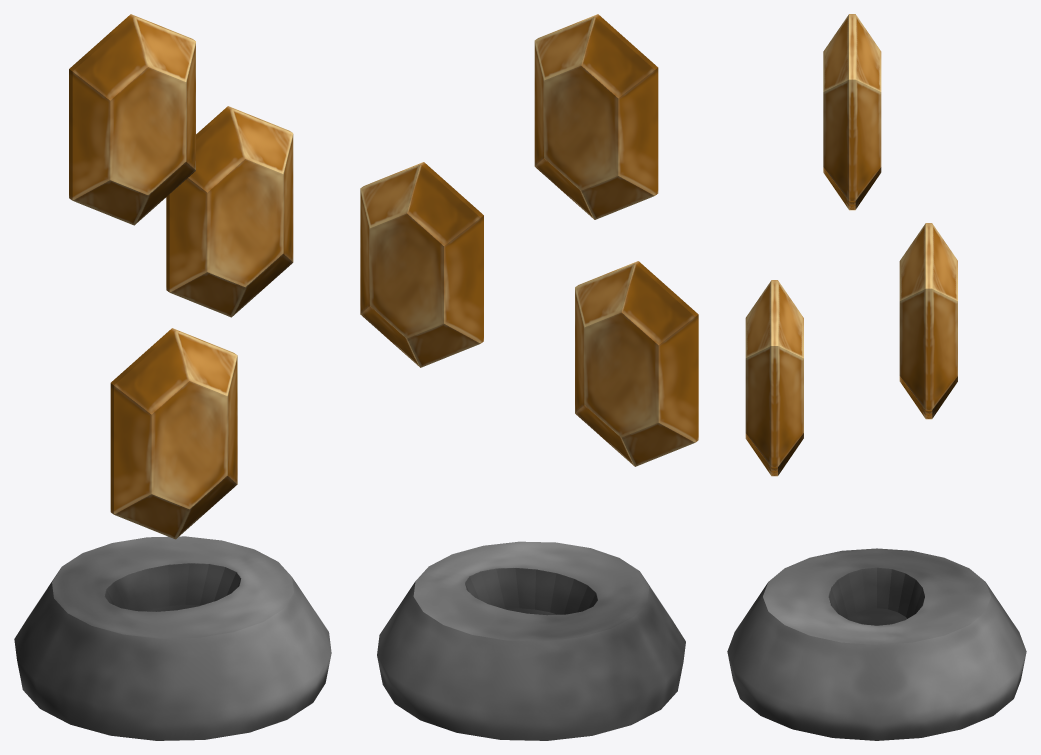
The model's file is SM_NewBridgeCrystalThree.fbx.
3 renders of one model, left to right at view 1: azimuth 30°, elevation 25°; view 2: azimuth 150°, elevation 25°; view 3: azimuth 270°, elevation 25°, orthographic. The views are drawn at different scales.
Parts seen in each view (by area): view 1: polySurface8; view 2: polySurface8; view 3: polySurface8.
Part boxes in pixels (bbox=[...]): polySurface8: bbox=[14, 14, 331, 740]; polySurface8: bbox=[360, 14, 698, 740]; polySurface8: bbox=[727, 14, 1026, 740].
Bounding box in the file's own units: 1.17 × 2.69 × 1.14.
Materials: 1 (1 with a texture image).
